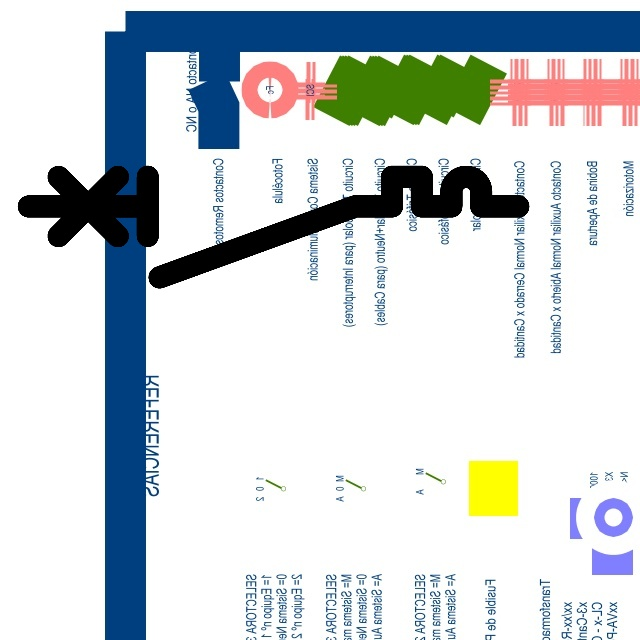interruptor_termomagnetico: (16, 164, 531, 290)
